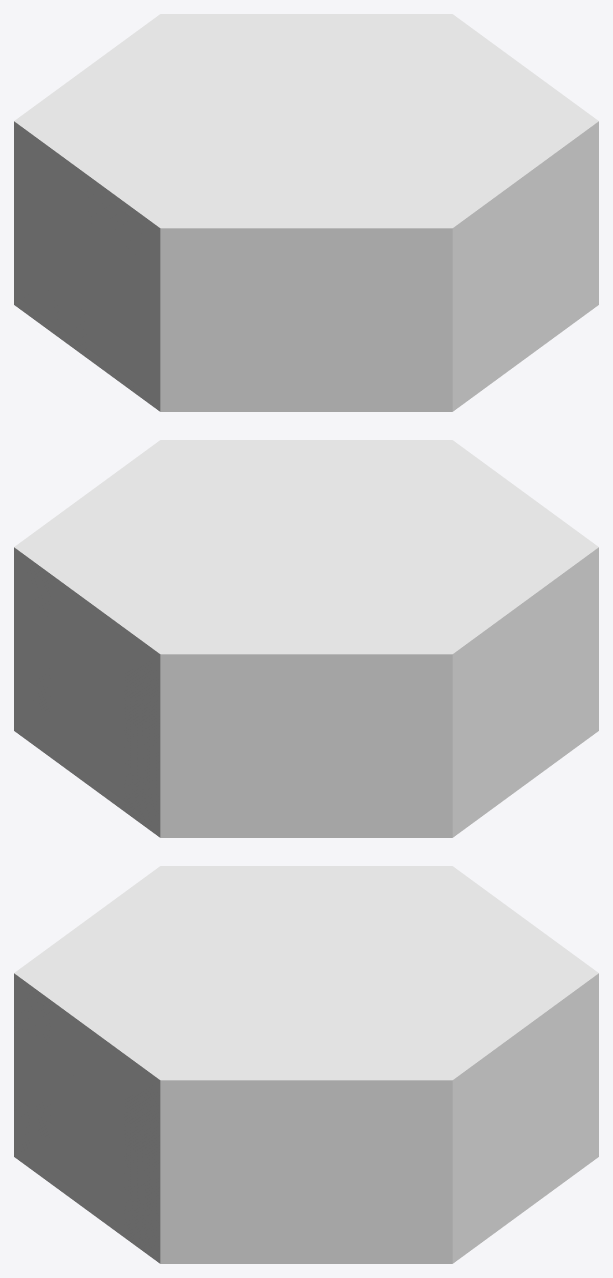
Rendered from hill_snow.glb.
3 views of the same model, one above another, from view 1: azimuth 30°, elevation 25°; view 2: azimuth 150°, elevation 25°; view 3: azimuth 270°, elevation 25° (orthographic).
Visible parts, largest first — view 1: water; view 2: water; view 3: water.
Boxes of the visible parts, x1=… form: water: x1=14, y1=14, x2=598, y2=411; water: x1=14, y1=440, x2=598, y2=837; water: x1=14, y1=866, x2=598, y2=1263.
Bounding box in the file's own units: 1 × 0.4 × 1.15.
Materials: 1 (1 with a texture image).
